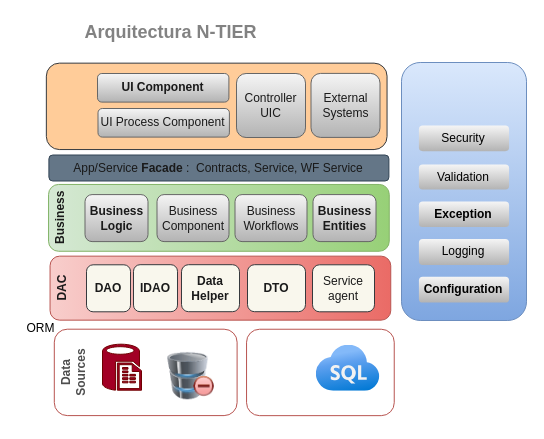
This 544x439 diagram has some shape labels left out. The shapes that lost their labels are listed below. From the top down, each one's box as (x1, y1, x2, y2) in pixels, then its label:
(45, 62, 387, 150): User Interface
(400, 62, 526, 320): Framework
(102, 343, 142, 390): SQLITE
(167, 351, 214, 401): database
(246, 328, 394, 416): Data Service
